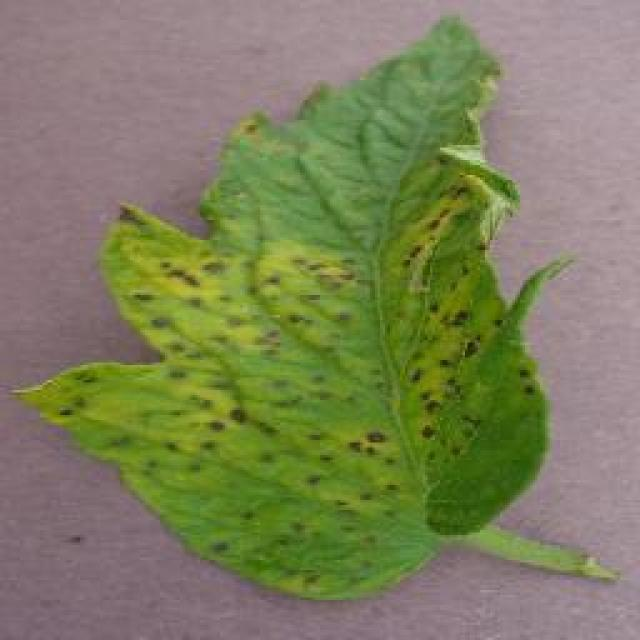Tomato target spot leaf: (24, 21, 574, 601)
